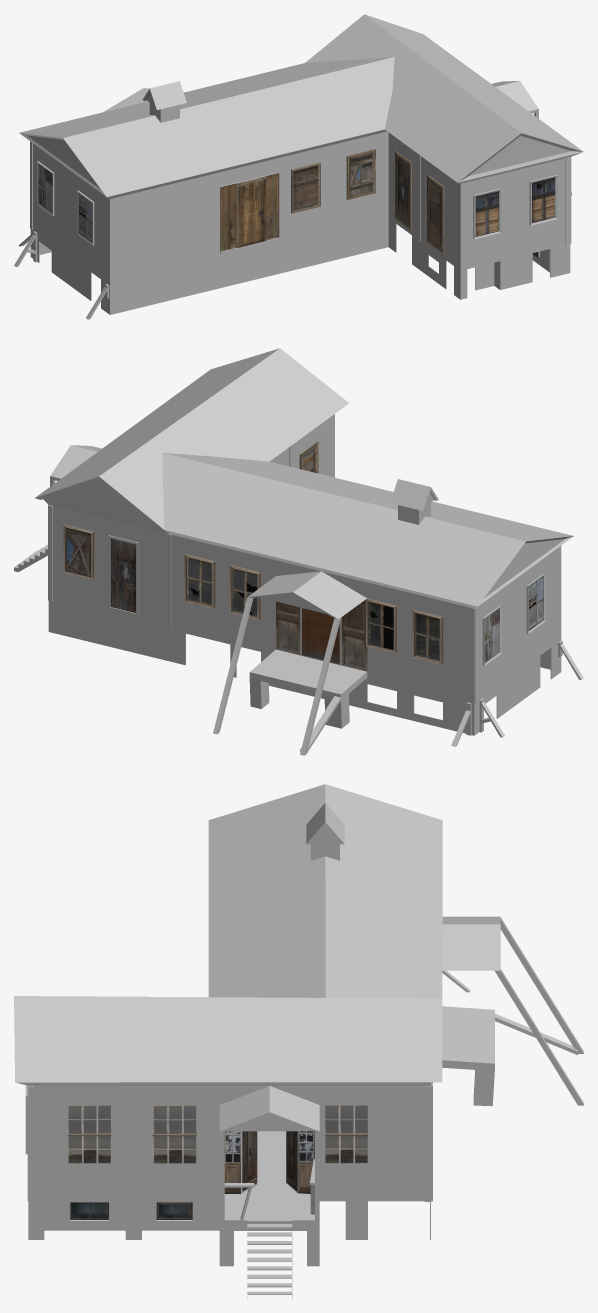
File: house-final-final.fbx
3 views of the same model, one above another, from view 1: azimuth 30°, elevation 25°; view 2: azimuth 150°, elevation 25°; view 3: azimuth 270°, elevation 25° (orthographic). The views are drawn at different scales.
Visible parts, largest first — view 1: dach.001, sciany-ZEWNETRZNE, piwnica, drzwi, OKNA.000, dach.004, drzwi.004, OKNA.001, OKNA.-ramy, dach.002, dach.003, komin (+4 smaller); view 2: dach.001, sciany-ZEWNETRZNE, piwnica, OKNA.002, ALTANKA2.005, sciany - zewn- drzwi, dach.004, OKNA.-ramy.005, ALTANKA2.001, ALTANKA2.003, dach.003, KATY - DESKI (+9 smaller); view 3: dach.001, sciany-ZEWNETRZNE, OKNA - NOWE, piwnica, ALTANKA2.005, ALTANKA2.003, ALTANKI.003, ALTANKA2.001, ALTANKI.002, schody, sciany - zewn- drzwi, KATY - DESKI (+10 smaller).
Boxes of the visible parts, left/top/right/bottom form: dach.001: left=19, top=14, right=583, bottom=196; sciany-ZEWNETRZNE: left=33, top=131, right=564, bottom=285; piwnica: left=30, top=218, right=570, bottom=314; drzwi: left=220, top=173, right=278, bottom=251; OKNA.000: left=291, top=149, right=375, bottom=213; dach.004: left=27, top=135, right=571, bottom=189; drzwi.004: left=395, top=151, right=444, bottom=253; OKNA.001: left=475, top=177, right=555, bottom=236; OKNA.-ramy: left=37, top=161, right=557, bottom=245; dach.002: left=19, top=133, right=583, bottom=196; dach.003: left=107, top=129, right=581, bottom=198; komin: left=142, top=81, right=186, bottom=122; dach.001: left=35, top=348, right=572, bottom=606; sciany-ZEWNETRZNE: left=53, top=414, right=561, bottom=702; piwnica: left=48, top=601, right=561, bottom=735; OKNA.002: left=66, top=527, right=439, bottom=661; ALTANKA2.005: left=249, top=649, right=367, bottom=699; sciany - zewn- drzwi: left=276, top=599, right=367, bottom=671; dach.004: left=48, top=479, right=564, bottom=597; OKNA.-ramy.005: left=63, top=524, right=443, bottom=664; ALTANKA2.001: left=213, top=592, right=340, bottom=755; ALTANKA2.003: left=248, top=571, right=366, bottom=619; dach.003: left=43, top=497, right=477, bottom=608; KATY - DESKI: left=48, top=445, right=477, bottom=703; dach.001: left=14, top=784, right=442, bottom=1082; sciany-ZEWNETRZNE: left=34, top=1086, right=424, bottom=1201; OKNA - NOWE: left=68, top=1105, right=367, bottom=1163; piwnica: left=28, top=1201, right=430, bottom=1239; ALTANKA2.005: left=442, top=1006, right=494, bottom=1071; ALTANKA2.003: left=442, top=916, right=500, bottom=970; ALTANKI.003: left=219, top=1192, right=319, bottom=1227; ALTANKA2.001: left=495, top=917, right=583, bottom=1105; ALTANKI.002: left=219, top=1086, right=319, bottom=1131; schody: left=247, top=1220, right=292, bottom=1298; sciany - zewn- drzwi: left=224, top=1131, right=314, bottom=1193; KATY - DESKI: left=27, top=1083, right=432, bottom=1202.
Size of the model in its own units: 3562 by 1254 by 2681.
